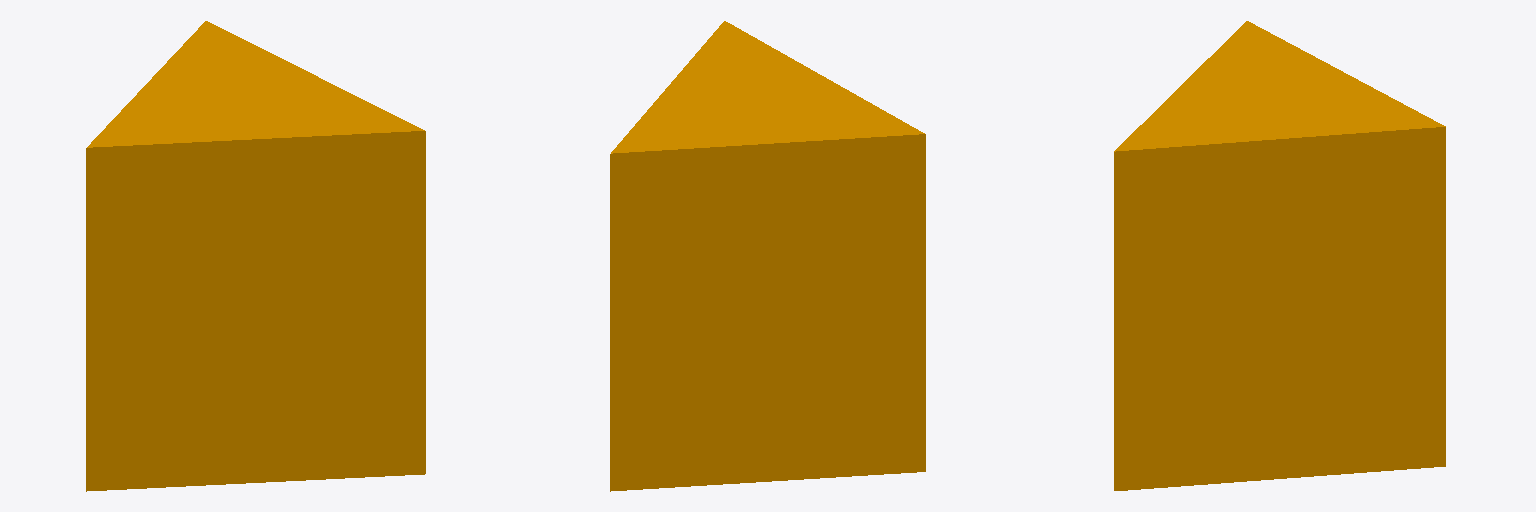
The robot description file, URDF, robot "object":
<?xml version="1.0"?>
<robot name="object">
  <link name="object">
    <visual>
      <origin xyz="0 0 0"/>
      <geometry>
        <mesh filename="meshes/generated/col_035.obj" scale="0.03 0.03 0.03"/>
      </geometry>
    </visual>
    <collision>
      <origin xyz="0 0 0"/>
      <geometry>
        <mesh filename="meshes/generated/col_035.obj" scale="0.03 0.03 0.03"/>
      </geometry>
    </collision>
    <inertial>
      <density value="1000.0"/>
    </inertial>
  </link>
</robot>

--- Render facts (derived) ---
Views: 3 orthographic renders of the robot side by side, from view 1: azimuth 30°, elevation 25°; view 2: azimuth 150°, elevation 25°; view 3: azimuth 270°, elevation 25°.
Robot: object — 1 links, 0 joints (none); root link object; default pose: every joint at zero.
Visible links, largest first — view 1: object; view 2: object; view 3: object.
Link boxes in pixels (left/top/right/bottom): object: left=86, top=21, right=425, bottom=491; object: left=610, top=21, right=925, bottom=491; object: left=1114, top=21, right=1445, bottom=490.
Size in the robot's own frame: 0.0497 by 0.0531 by 0.06 metres.
1 mesh visuals loaded from 1 distinct referenced files (1 OBJ).
